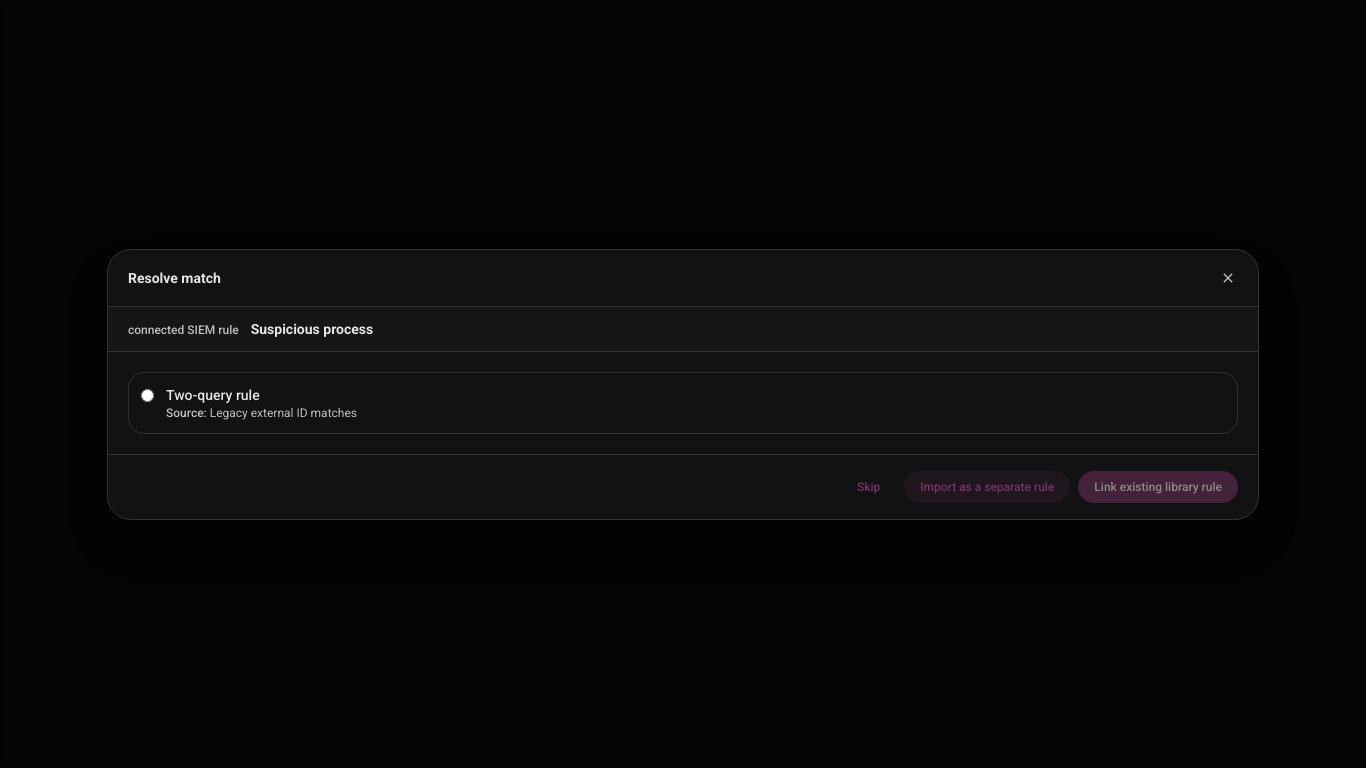
MatchResolutionDialog › keeps Link existing library rule disabled until a candidate and one of its queries is chosen
Expected: the text "Two-query rule" is shown, [166,386,260,402]
Expected: the button "Link existing library rule" is disabled, [1078,470,1238,502]
Click the radio button labelled "Two-query rule Source: Legacy external ID matches" at (148, 395), box [141,388,154,402]
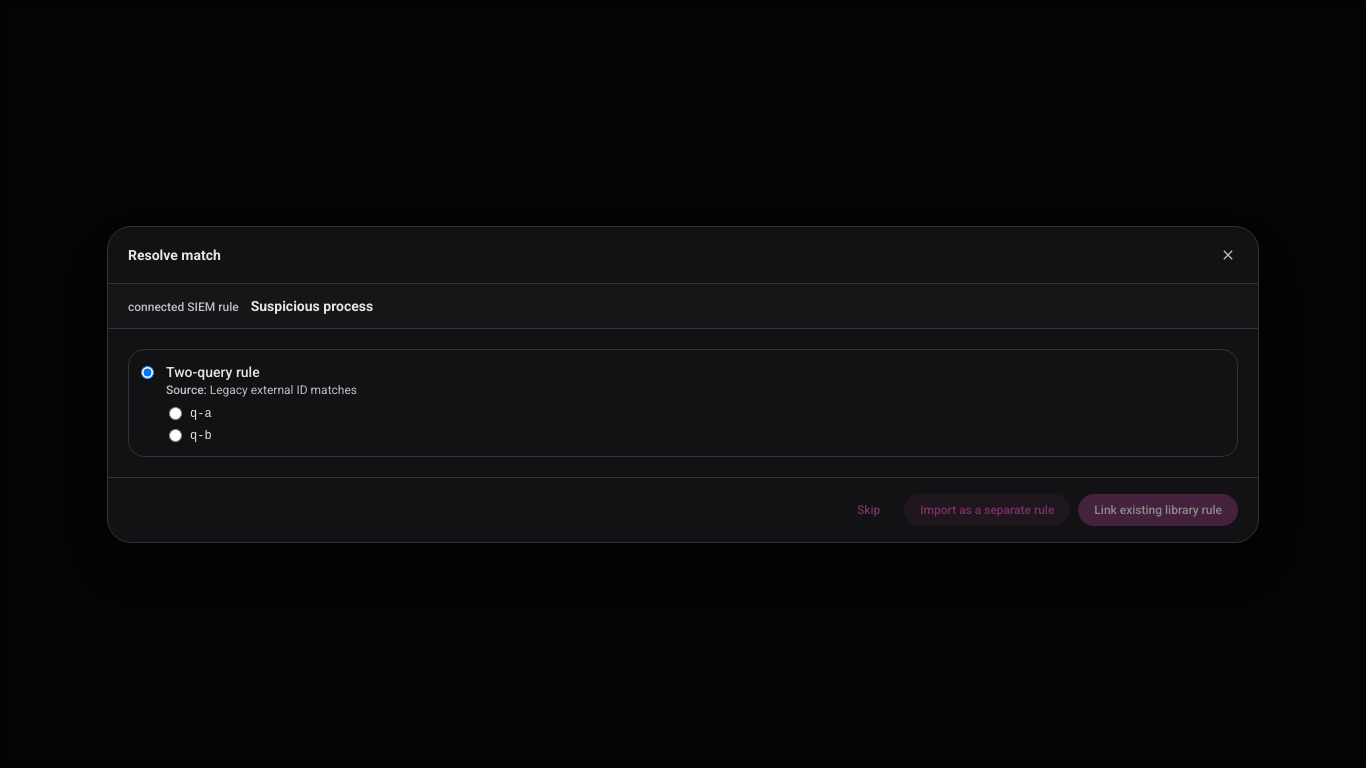
Expected: the button "Link existing library rule" is disabled, [1078,494,1238,526]
Click the radio button labelled "q-a" at (176, 414), box [169,407,182,420]
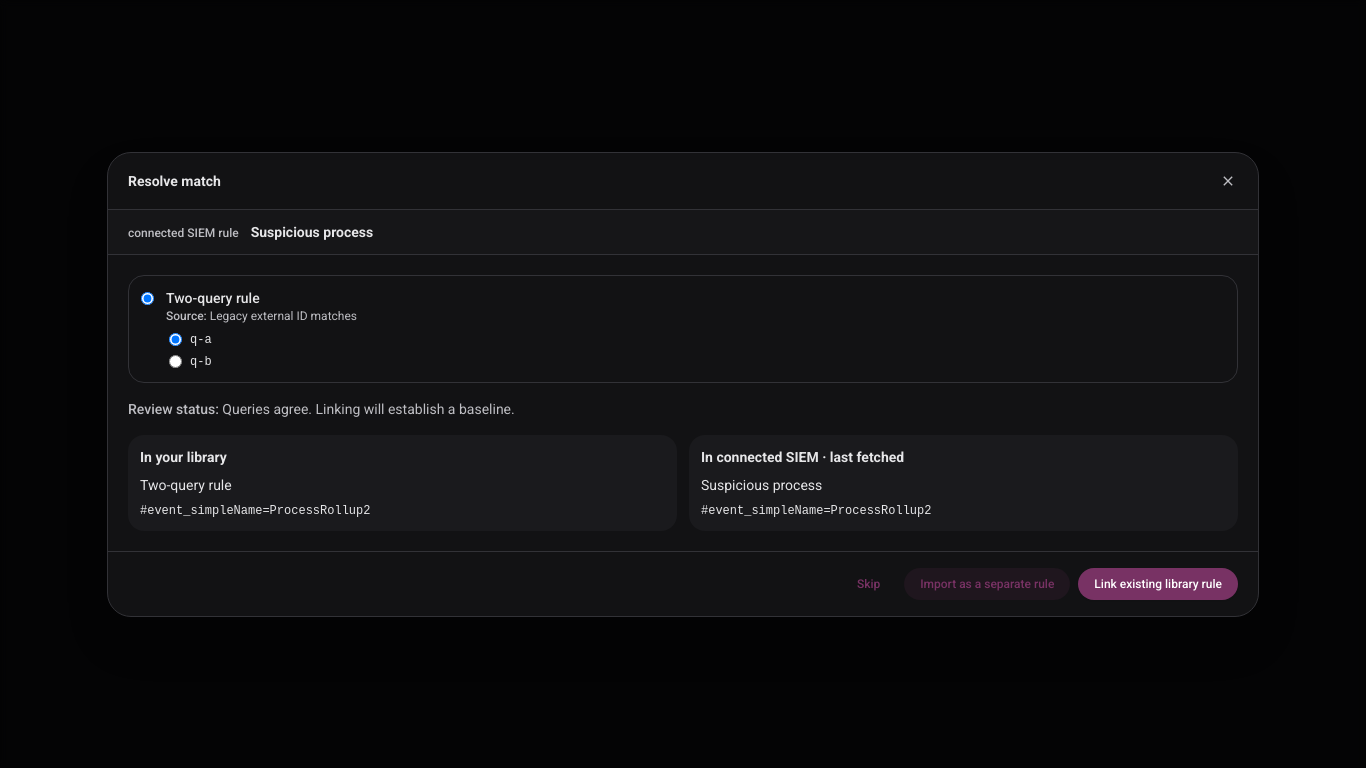
Result: the button "Link existing library rule" is enabled at [1078,568,1238,600]
